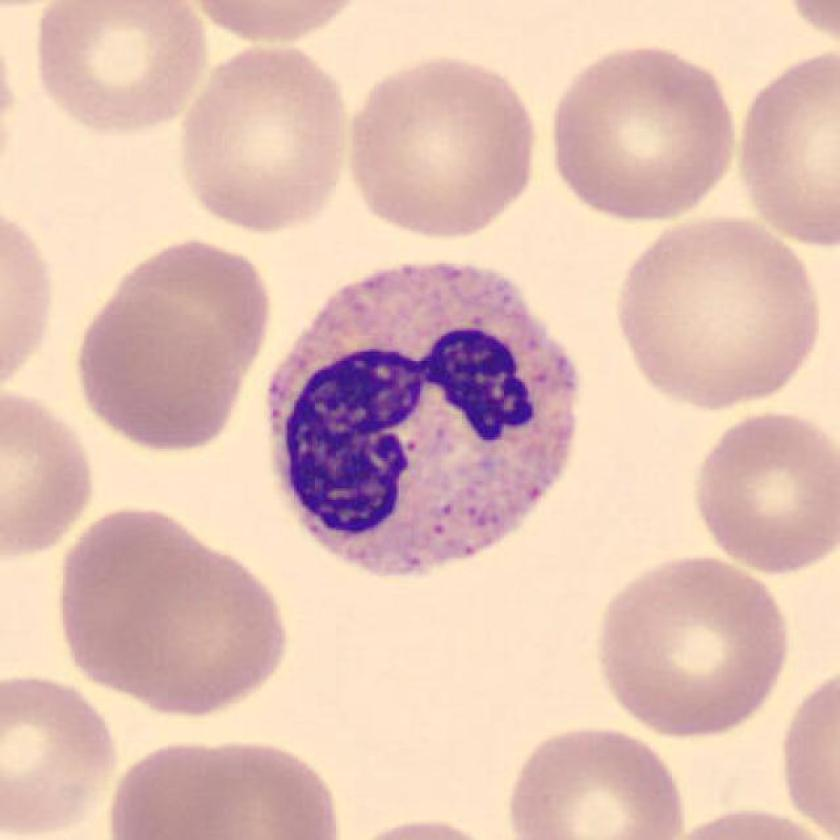neutrophil: (266, 264, 577, 574)
